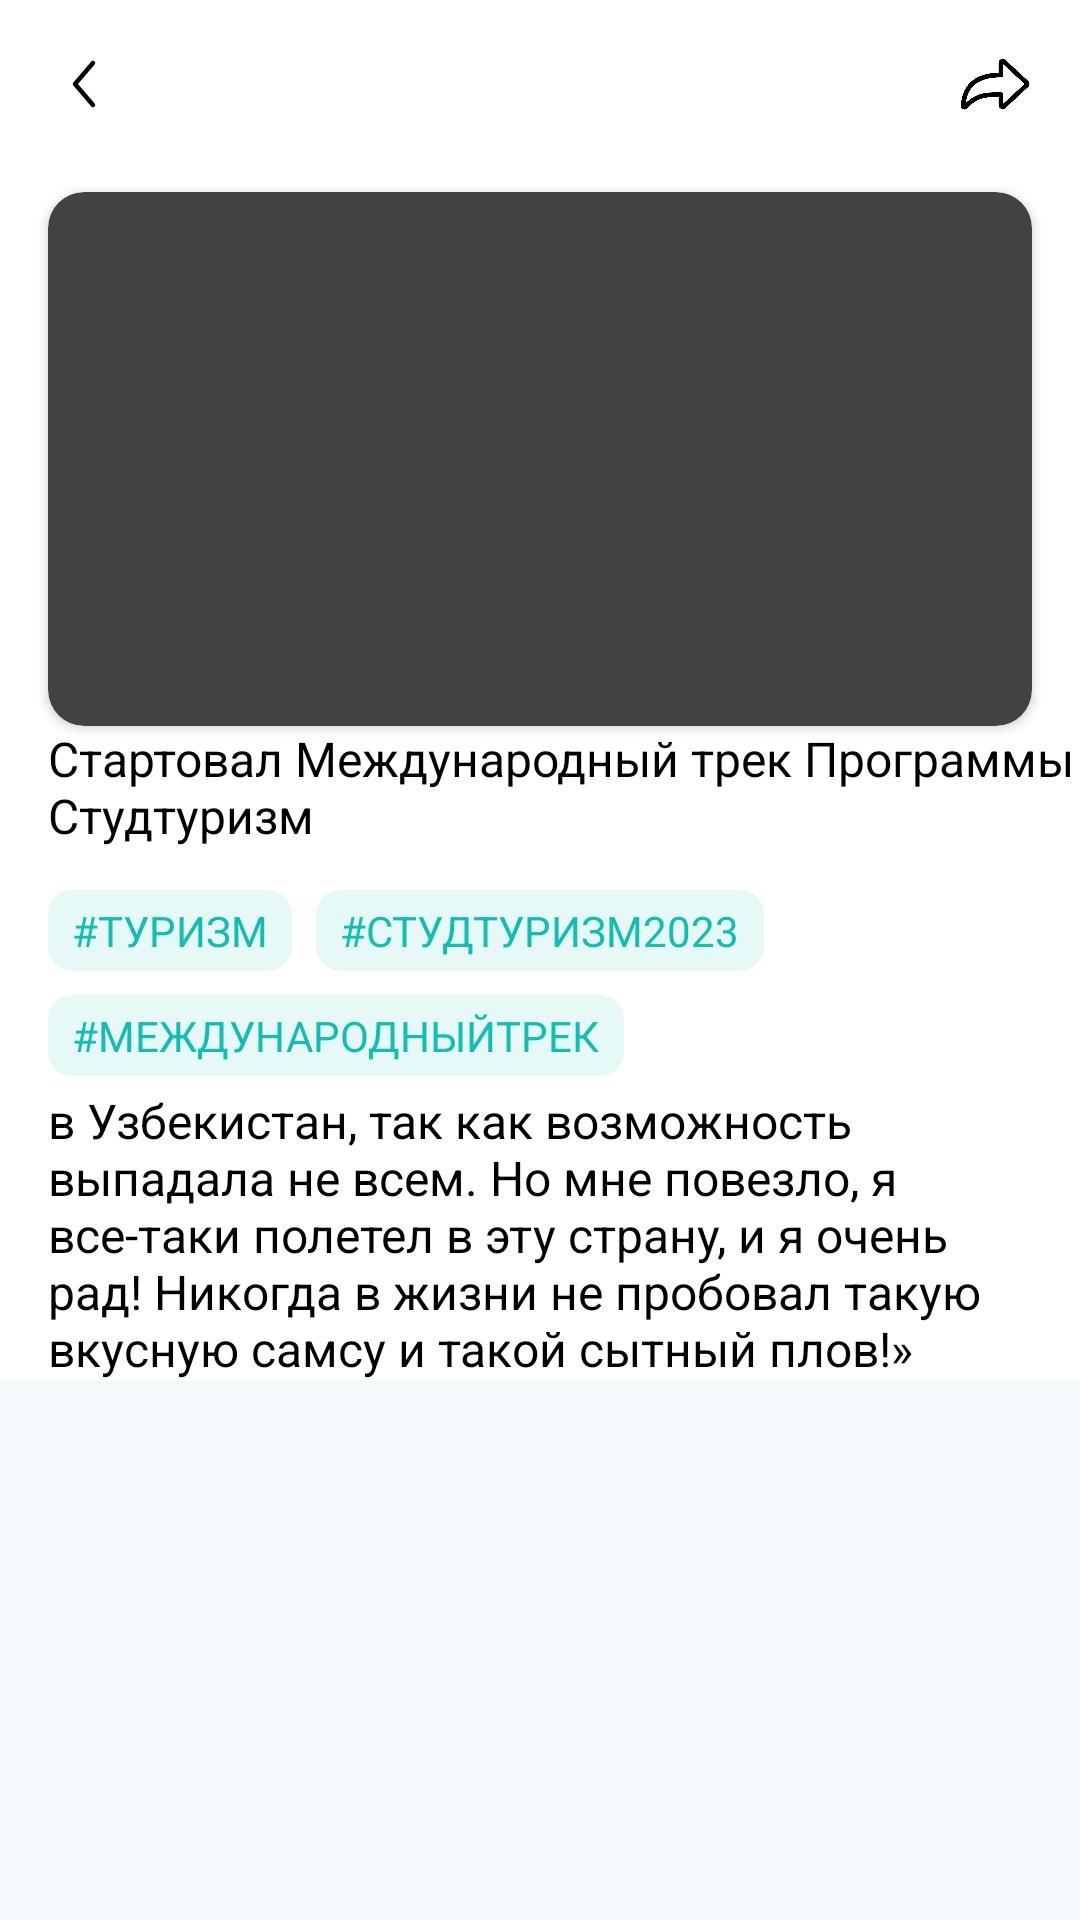

Icons on this 1080*1920 Android screen, each with its box as (x1, y1, x2, y2):
share: (961, 59, 1030, 110)
